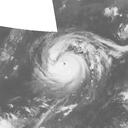cyclone: (44, 50, 88, 87)
